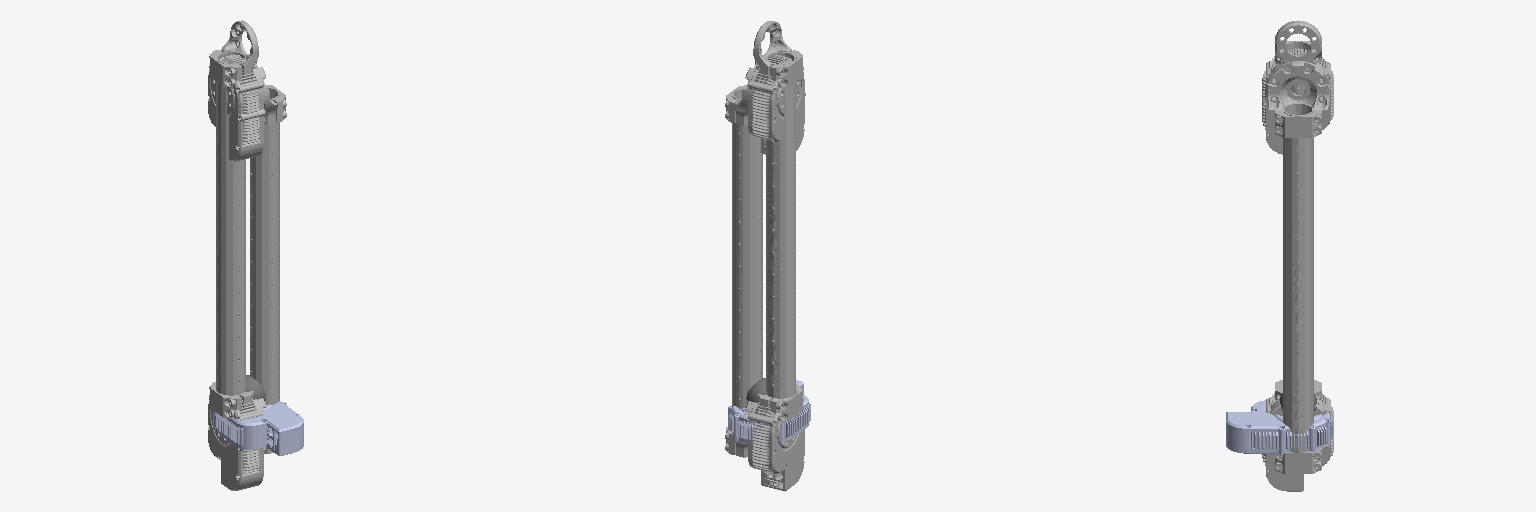
The robot description file, URDF, robot "shipbot":
<?xml version="1.0" encoding="utf-8"?>
<!-- This URDF was automatically created by SolidWorks to URDF Exporter! Originally created by [author] ([email redacted]) 
     Commit Version: 1.6.0-1-g15f4949  Build Version: 1.6.7594.29634
     For more information, please see http://wiki.ros.org/sw_urdf_exporter -->
<robot
  name="shipbot">
  <link
    name="link0">
    <inertial>
      <origin
        xyz="0.00229491428215301 0.00033379812623747 -0.0154857121766987"
        rpy="0 0 0" />
      <mass
        value="0.159501817678803" />
      <inertia
        ixx="8.44102418327143E-05"
        ixy="7.37059969004276E-08"
        ixz="4.57501855444665E-06"
        iyy="0.000133702392579779"
        iyz="-5.14045358890092E-08"
        izz="5.65734170944764E-05" />
    </inertial>
    <visual>
      <origin
        xyz="0 0 0"
        rpy="0 0 0" />
      <geometry>
        <mesh
          filename="package://shipbot_urdf/meshes/link0.STL" />
      </geometry>
      <material
        name="">
        <color
          rgba="0.792156862745098 0.819607843137255 0.933333333333333 1" />
      </material>
    </visual>
  </link>
  <link
    name="link1">
    <inertial>
      <origin
        xyz="0.00897913200851211 0.0644194045134585 0.0430481867787289"
        rpy="0 0 0" />
      <mass
        value="0.236983684615599" />
      <inertia
        ixx="8.75248409147893E-05"
        ixy="-9.48848077558243E-06"
        ixz="3.28088278467079E-07"
        iyy="0.000119070793291938"
        iyz="-4.35936038741718E-07"
        izz="0.000186089828377507" />
    </inertial>
    <visual>
      <origin
        xyz="0 0 0"
        rpy="0 0 0" />
      <geometry>
        <mesh
          filename="package://shipbot_urdf/meshes/link1.STL" />
      </geometry>
      <material
        name="">
        <color
          rgba="0.792156862745098 0.819607843137255 0.933333333333333 1" />
      </material>
    </visual>
  </link>
  <joint
    name="rotary1"
    type="revolute">
    <origin
      xyz="0 0 0"
      rpy="3.1416 1.5708 0" />
    <parent
      link="link0" />
    <child
      link="link1" />
    <axis
      xyz="0 0 1" />
    <limit
      lower="-1.57"
      upper="1.57"
      effort="7"
      velocity="2" />
  </joint>
  <link
    name="link2">
    <inertial>
      <origin
        xyz="0.212019577286543 -0.0707055312576384 0.0856748864948007"
        rpy="0 0 0" />
      <mass
        value="0.106988184234906" />
      <inertia
        ixx="2.53008670308476E-05"
        ixy="-6.59981024348689E-11"
        ixz="3.3983238247941E-11"
        iyy="0.00085049020237028"
        iyz="-6.16151850714375E-13"
        izz="0.000859153921810749" />
    </inertial>
    <visual>
      <origin
        xyz="0 0 0"
        rpy="0 0 0" />
      <geometry>
        <mesh
          filename="package://shipbot_urdf/meshes/link2.STL" />
      </geometry>
      <material
        name="">
        <color
          rgba="0.752941176470588 0.752941176470588 0.752941176470588 1" />
      </material>
    </visual>
  </link>
  <joint
    name="rotary2"
    type="revolute">
    <origin
      xyz="0 0 0"
      rpy="0 0 3.1416" />
    <parent
      link="link1" />
    <child
      link="link2" />
    <axis
      xyz="0 0 1" />
    <limit
      lower="-1.57"
      upper="1.57"
      effort="7"
      velocity="2.2" />
  </joint>
  <link
    name="link3">
    <inertial>
      <origin
        xyz="-0.596068862099029 -0.0719864106325815 -0.0433776786706706"
        rpy="0 0 0" />
      <mass
        value="0.442028154005472" />
      <inertia
        ixx="0.000146153858990964"
        ixy="9.14999965820475E-06"
        ixz="-1.54224631119548E-06"
        iyy="0.00102822733945739"
        iyz="-1.47610731127277E-07"
        izz="0.0011426345502513" />
    </inertial>
    <visual>
      <origin
        xyz="0 0 0"
        rpy="0 0 0" />
      <geometry>
        <mesh
          filename="package://shipbot_urdf/meshes/link3.STL" />
      </geometry>
      <material
        name="">
        <color
          rgba="0.752941176470588 0.752941176470588 0.752941176470588 1" />
      </material>
    </visual>
  </link>
  <joint
    name="rotary3"
    type="revolute">
    <origin
      xyz="0 0 0"
      rpy="3.1416 0 3.1416" />
    <parent
      link="link2" />
    <child
      link="link3" />
    <axis
      xyz="0 0 1" />
    <limit
      lower="-1.57"
      upper="1.57"
      effort="7"
      velocity="2.2" />
  </joint>
  <link
    name="link4">
    <inertial>
      <origin
        xyz="-0.0622068485470434 -0.116743813196765 -0.843087797291018"
        rpy="0 0 0" />
      <mass
        value="0.236983684646082" />
      <inertia
        ixx="8.75248406596663E-05"
        ixy="9.48848335855611E-06"
        ixz="-3.28088278854559E-07"
        iyy="0.000119070793706901"
        iyz="-4.35936053696684E-07"
        izz="0.000186089828536701" />
    </inertial>
    <visual>
      <origin
        xyz="0 0 0"
        rpy="0 0 0" />
      <geometry>
        <mesh
          filename="package://shipbot_urdf/meshes/link4.STL" />
      </geometry>
      <material
        name="">
        <color
          rgba="0.792156862745098 0.819607843137255 0.933333333333333 1" />
      </material>
    </visual>
  </link>
  <joint
    name="rotary4"
    type="revolute">
    <origin
      xyz="0 0 0"
      rpy="1.5708 0 1.5708" />
    <parent
      link="link3" />
    <child
      link="link4" />
    <axis
      xyz="0 0 1" />
    <limit
      lower="-1.57"
      upper="1.57"
      effort="7"
      velocity="2.2" />
  </joint>
  <link
    name="link5">
    <inertial>
      <origin
        xyz="-0.0182418735768112 0.140722679563569 0.891772257382688"
        rpy="0 0 0" />
      <mass
        value="0.0222650078147918" />
      <inertia
        ixx="2.96649808571935E-06"
        ixy="-7.41153828847513E-22"
        ixz="-1.05388523120848E-20"
        iyy="2.96649808571935E-06"
        iyz="9.69337532747787E-21"
        izz="4.30294027693138E-06" />
    </inertial>
    <visual>
      <origin
        xyz="0 0 0"
        rpy="0 0 0" />
      <geometry>
        <mesh
          filename="package://shipbot_urdf/meshes/link5.STL" />
      </geometry>
      <material
        name="">
        <color
          rgba="0.501960784313725 0.501960784313725 0.501960784313725 1" />
      </material>
    </visual>
  </link>
  <joint
    name="rotary5"
    type="revolute">
    <origin
      xyz="0 0 0"
      rpy="3.1416 0 -0.3927" />
    <parent
      link="link4" />
    <child
      link="link5" />
    <axis
      xyz="0 0 1" />
    <limit
      lower="-1.57"
      upper="1.57"
      effort="7"
      velocity="2.2" />
  </joint>
</robot>

--- What the picture shows (computed from the rendered views, not written in the file) ---
3 views of the same robot in one strip: view 1: azimuth 30°, elevation 25°; view 2: azimuth 150°, elevation 25°; view 3: azimuth 270°, elevation 25° (orthographic).
Model shipbot with 6 links and 5 joints (5 revolute), rooted at link0, posed all joints at 0.
Links seen in each view (by area): view 1: link3, link2, link0; view 2: link3, link2, link0; view 3: link3, link0, link2.
Link boxes in pixels (box(x1,y1,x2,y2)): link3: box(208, 54, 286, 490); link2: box(209, 20, 258, 417); link0: box(213, 401, 303, 455); link3: box(725, 55, 805, 491); link2: box(753, 21, 802, 421); link0: box(728, 380, 810, 444); link3: box(1262, 48, 1333, 491); link0: box(1226, 400, 1333, 454); link2: box(1275, 20, 1321, 399).
Size in the robot's own frame: 0.075 by 0.1101 by 0.5221 metres.
Meshes: 6 distinct files referenced, 4 mesh visuals loaded (4 binary STL); not drawn: 2 (reference not matched to a file when rendering).